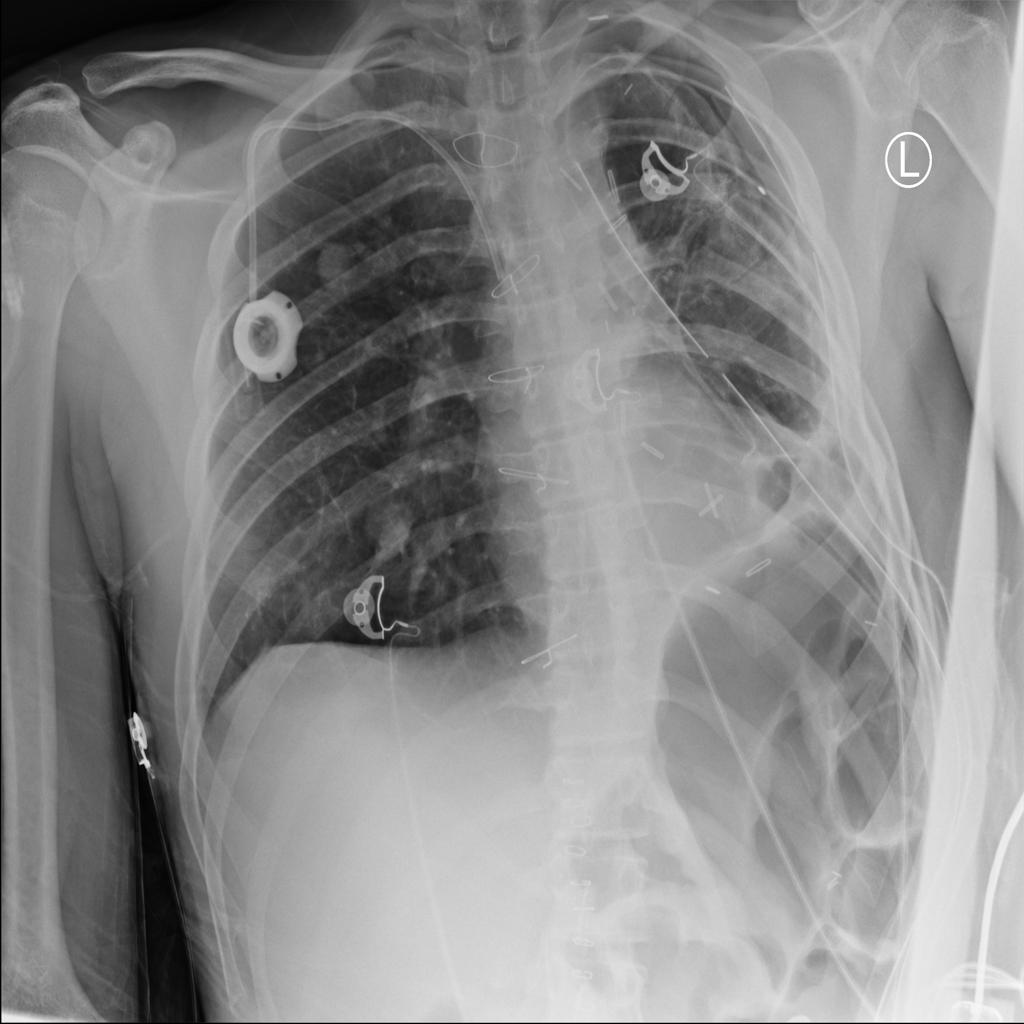nodule: (352, 483, 425, 567), (306, 226, 375, 304)
